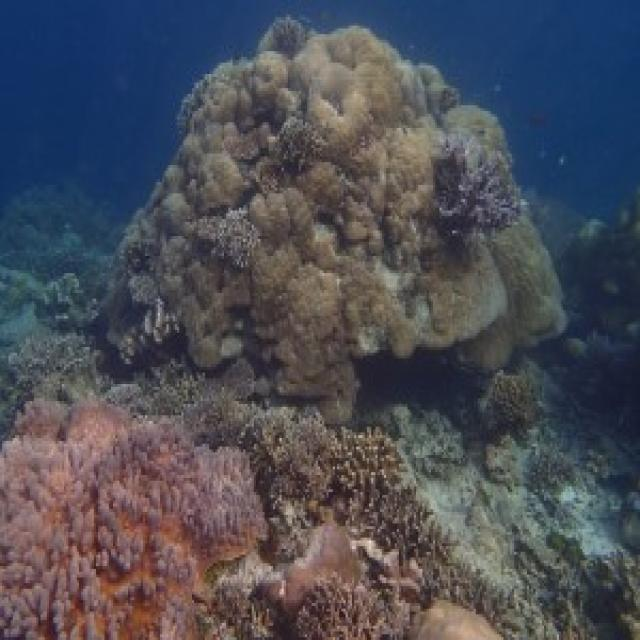Healthy: (101, 21, 564, 425), (212, 396, 500, 618), (1, 402, 266, 638), (208, 524, 419, 638)
